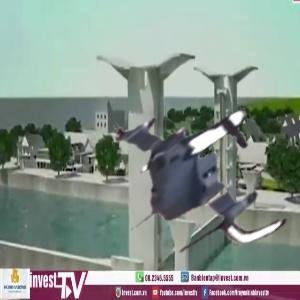drone: (106, 77, 300, 271)
